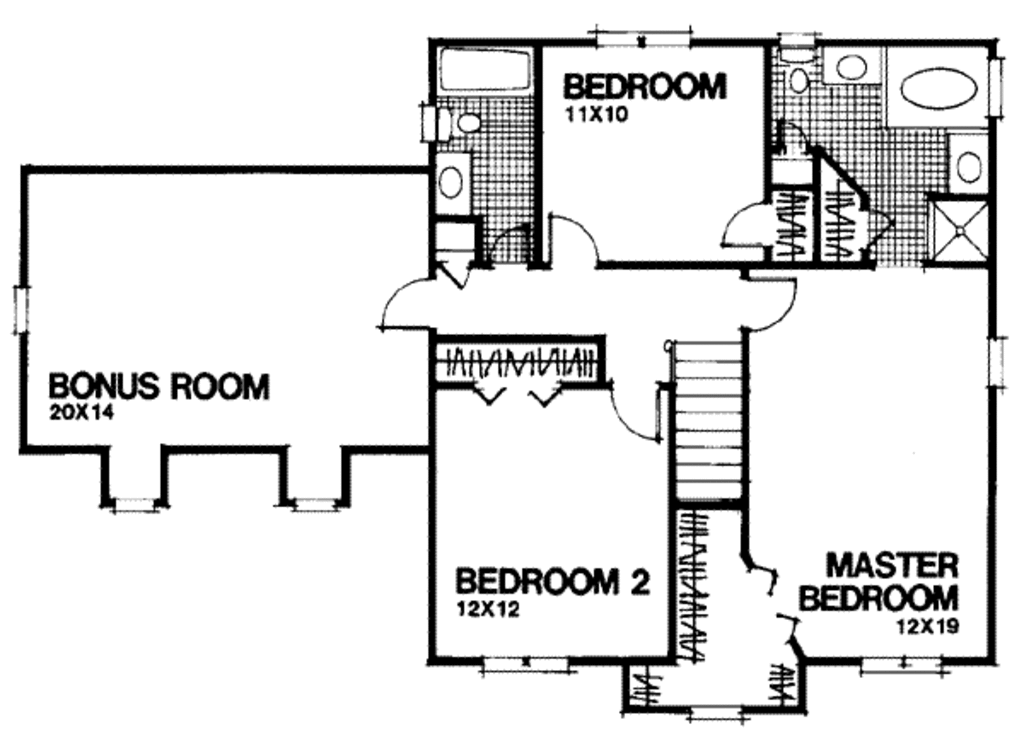door: (542, 208, 600, 271), (743, 269, 795, 337), (607, 384, 665, 444), (379, 274, 434, 337), (713, 199, 769, 249)
large_sink: (780, 44, 819, 97), (439, 99, 478, 144)
small_sink: (821, 44, 889, 86), (433, 152, 472, 217)
stairs: (668, 334, 750, 515)
tub: (884, 43, 987, 130), (440, 44, 535, 102)
windows: (587, 24, 695, 50), (474, 652, 569, 679), (853, 654, 947, 678), (691, 700, 745, 729), (110, 492, 156, 520), (10, 282, 32, 339), (984, 331, 1005, 389), (292, 496, 339, 515)
